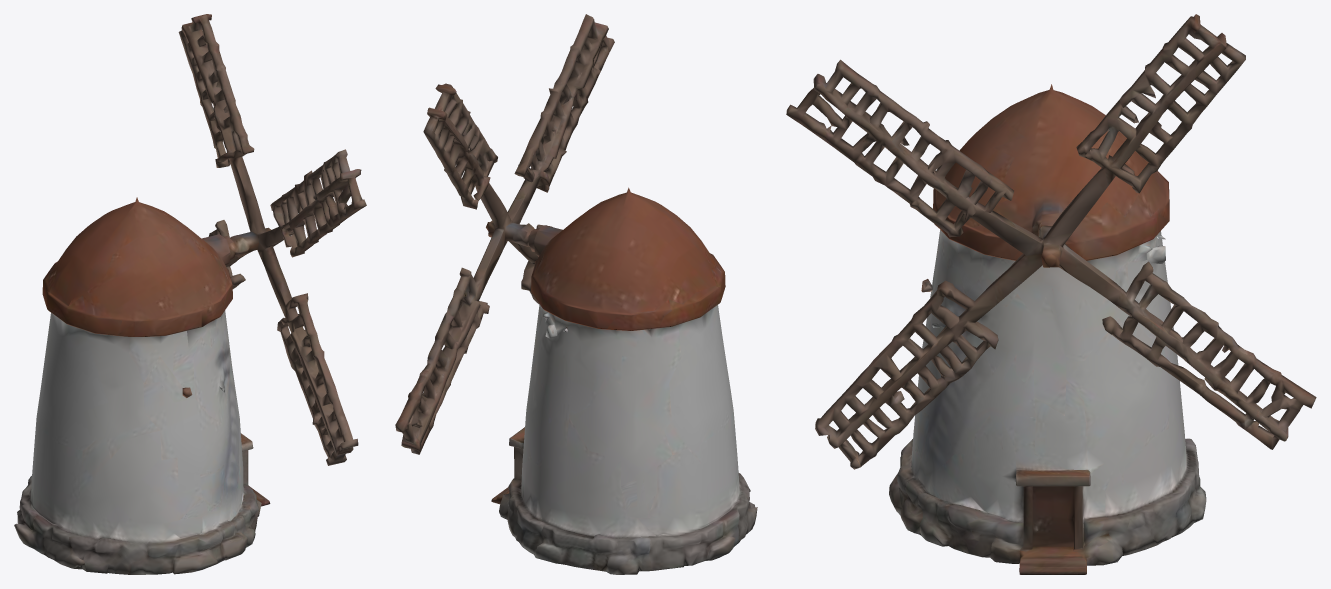
File: windmill.glb
3 renders of one model, left to right at view 1: azimuth 30°, elevation 25°; view 2: azimuth 150°, elevation 25°; view 3: azimuth 270°, elevation 25°, orthographic. The views are drawn at different scales.
Parts seen in each view (by area): view 1: WindmillBody; view 2: WindmillBody; view 3: WindmillBody.
Part boxes in pixels (x1,y1,x2,y2): WindmillBody: (14,14,366,574); WindmillBody: (395,14,757,574); WindmillBody: (786,14,1316,574).
Size of the model in its own units: 3.98 by 6.8 by 5.84.
1 material, 1 textured.
